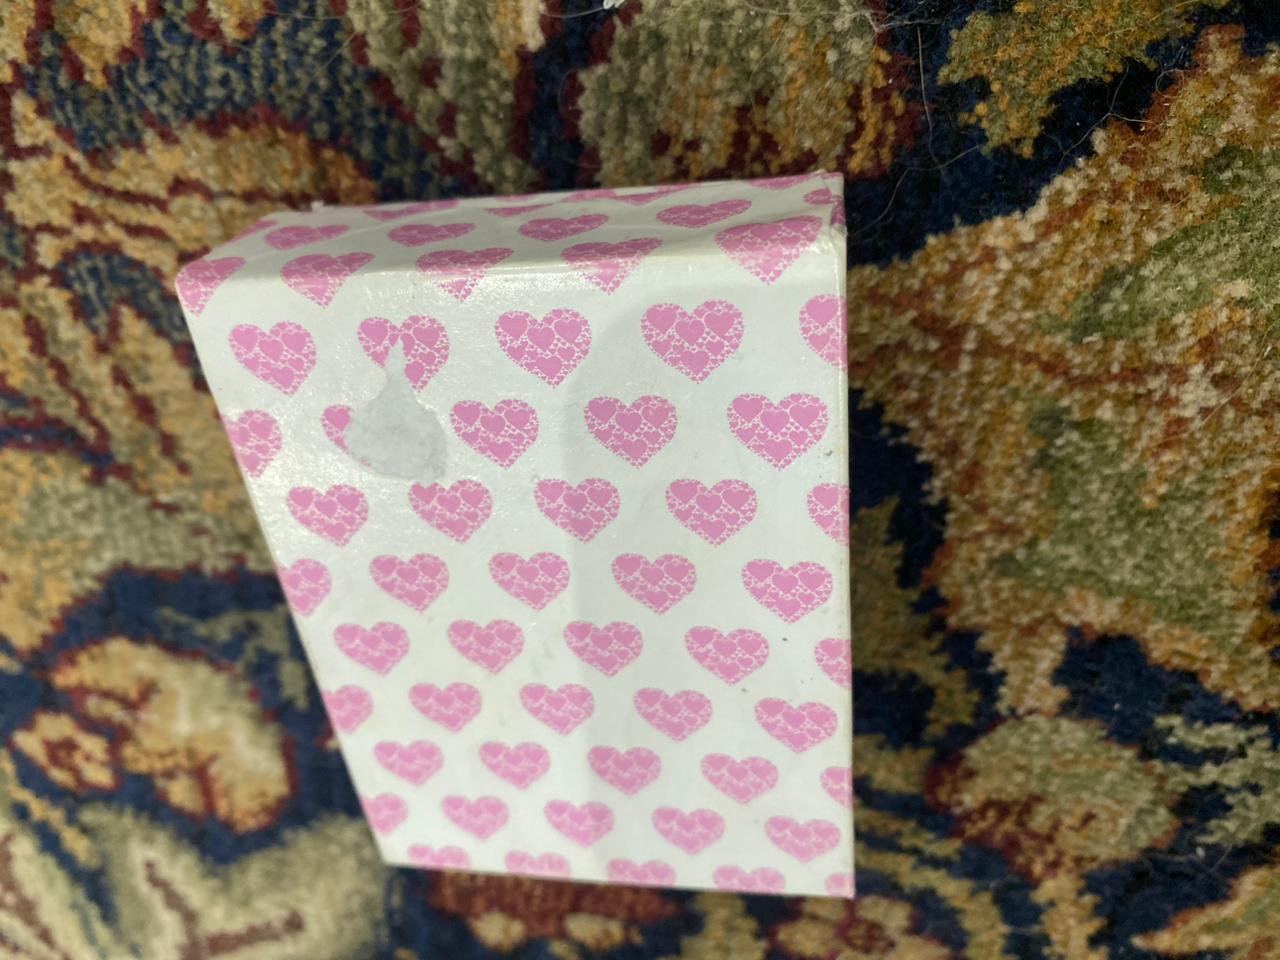Pink Box: (172, 169, 863, 910)
